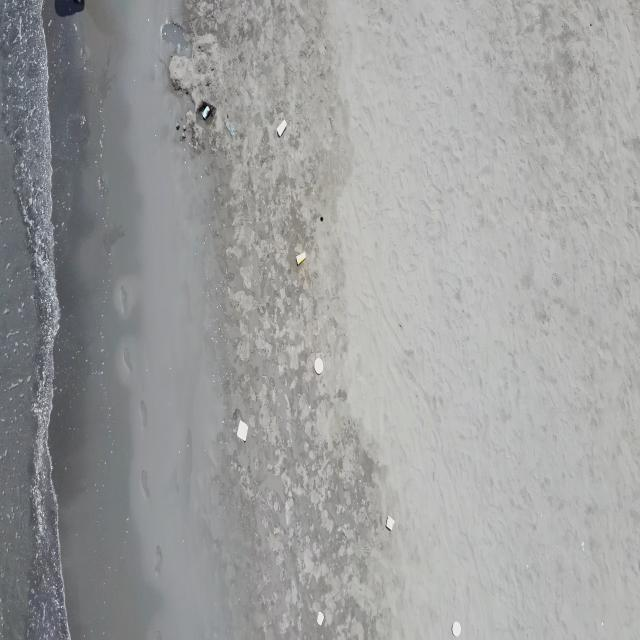take-away-containers: (236, 420, 248, 442), (314, 357, 324, 375), (385, 515, 395, 531), (452, 621, 461, 637), (316, 612, 324, 626)
takeaway-cup: (277, 119, 287, 137), (226, 120, 235, 137), (296, 252, 306, 265), (202, 106, 210, 120)
